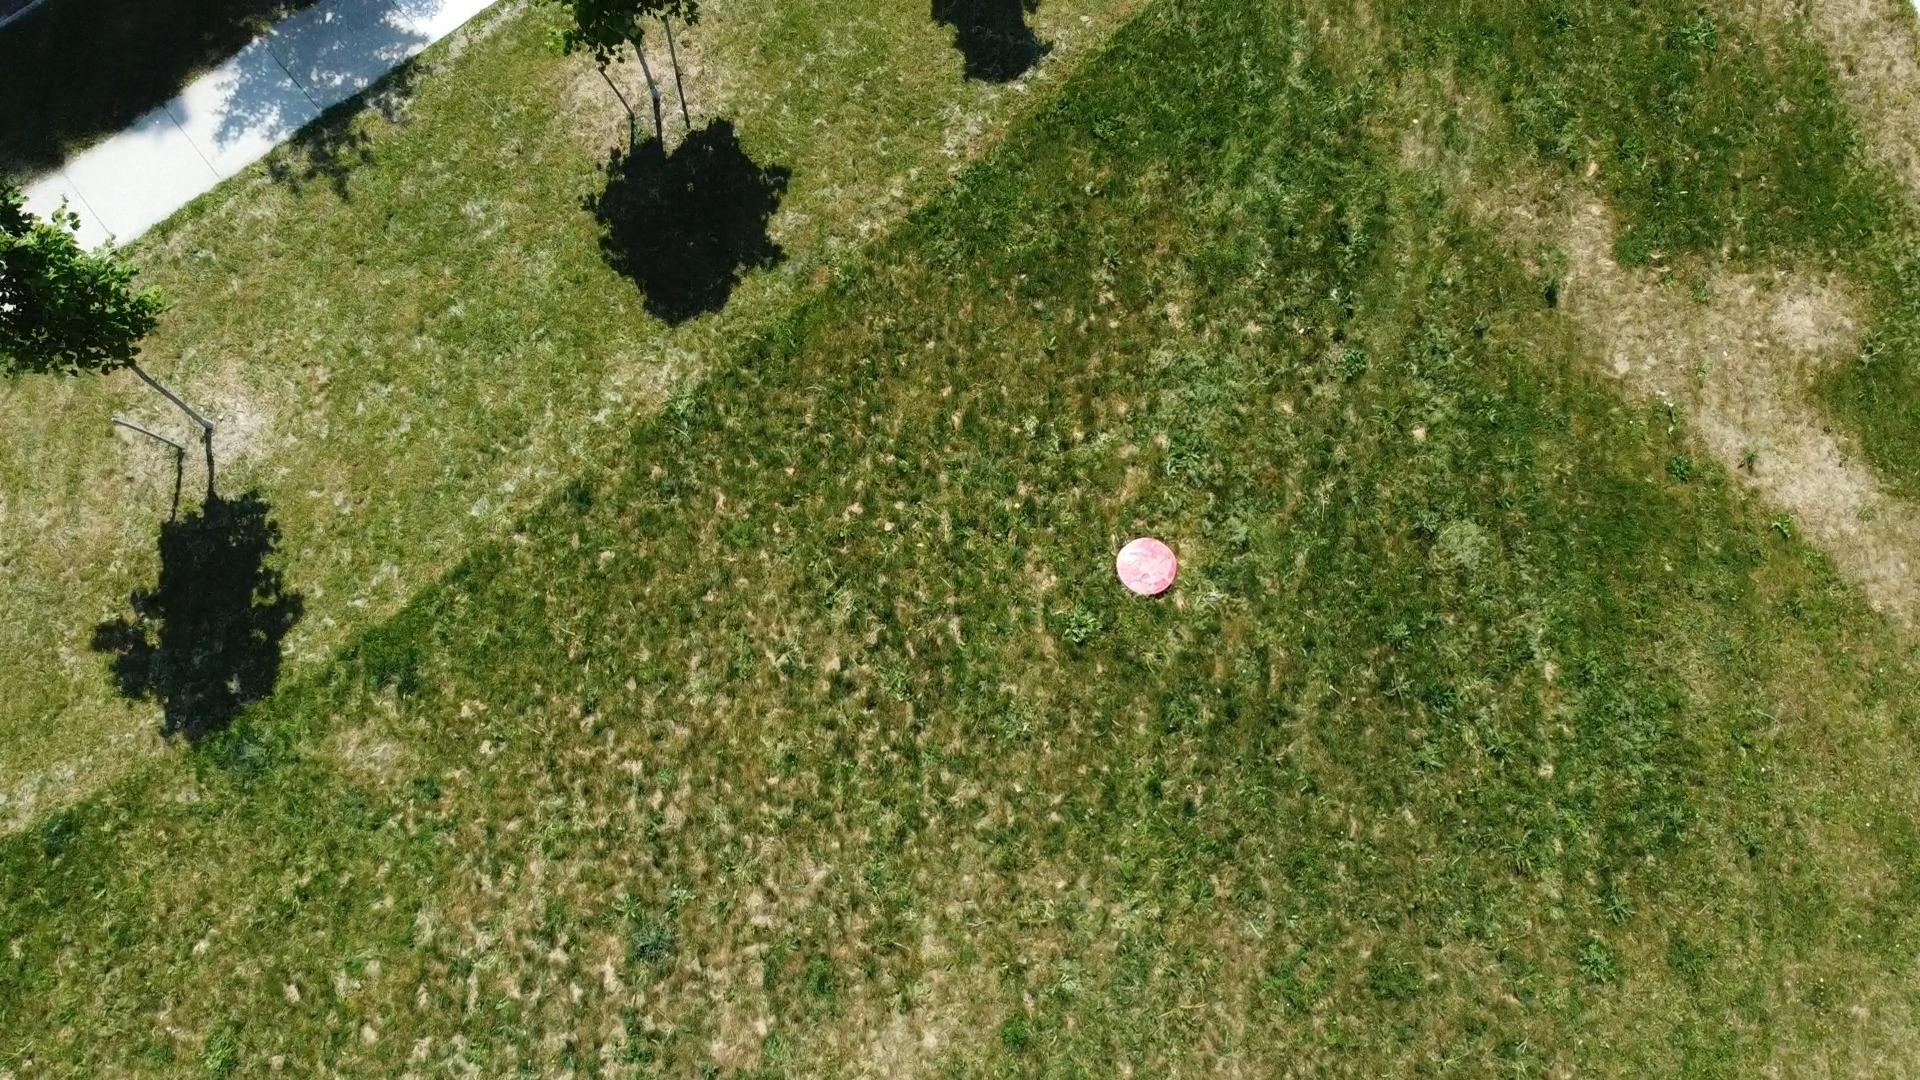Red: (1114, 534, 1180, 600)
